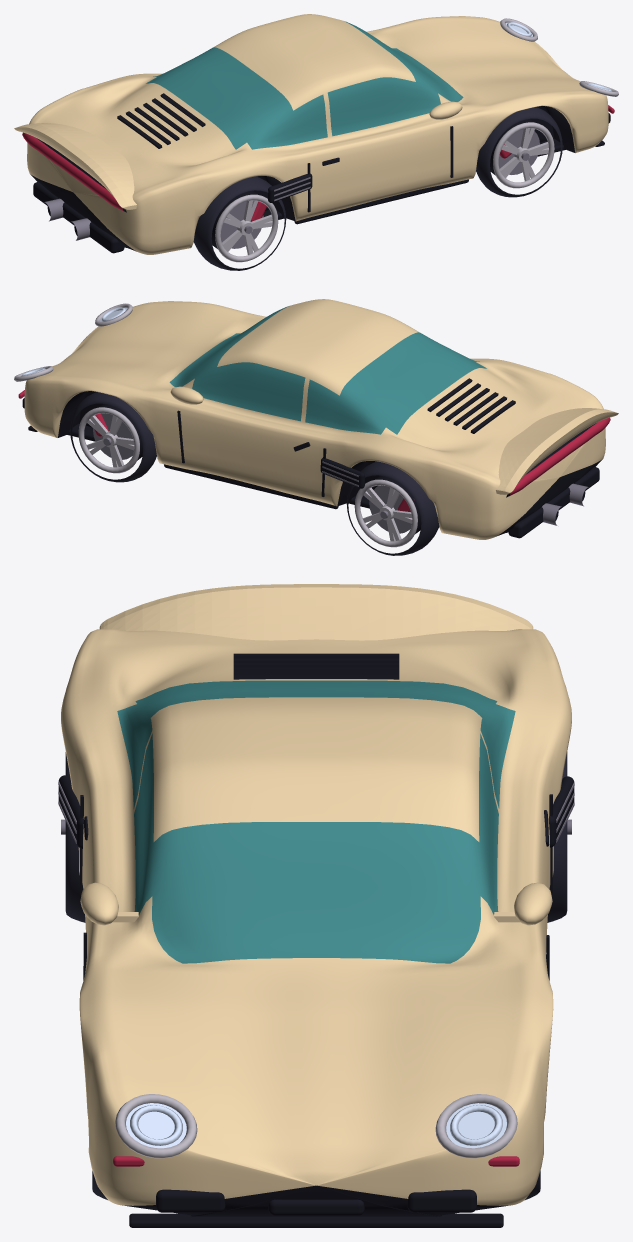
Rendered from coupe.gltf.
3 views of the same model, one above another, from view 1: azimuth 30°, elevation 25°; view 2: azimuth 150°, elevation 25°; view 3: azimuth 270°, elevation 25° (orthographic). The views are drawn at different scales.
Bounding box in the file's own units: 4.46 × 1.27 × 1.93.
